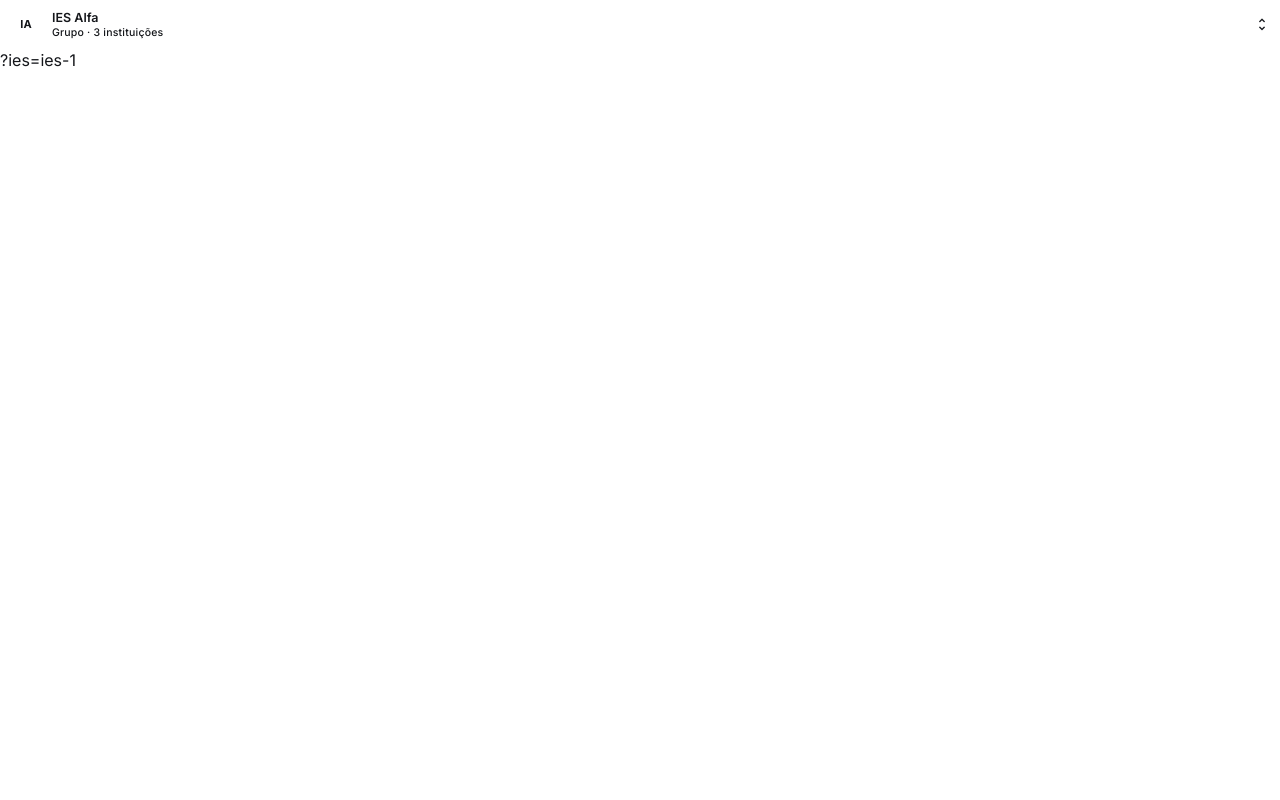
it: SidebarIes (spec §3) › poucas IES: também sem campo de busca — a lista já cabe
Click the dropdown named "instituição": (75, 17) [0,0,1279,48]
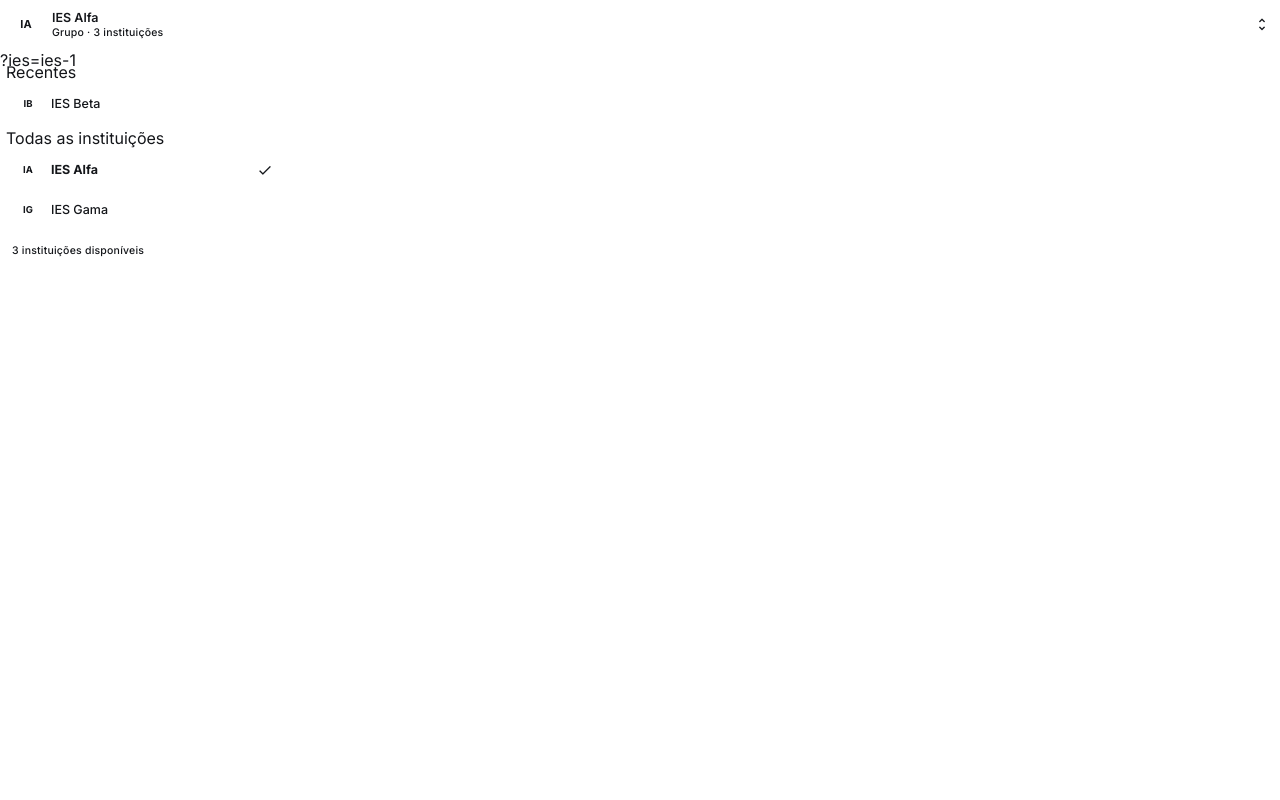
Expected: the text "IES Beta" is shown, [51,96,100,111]
